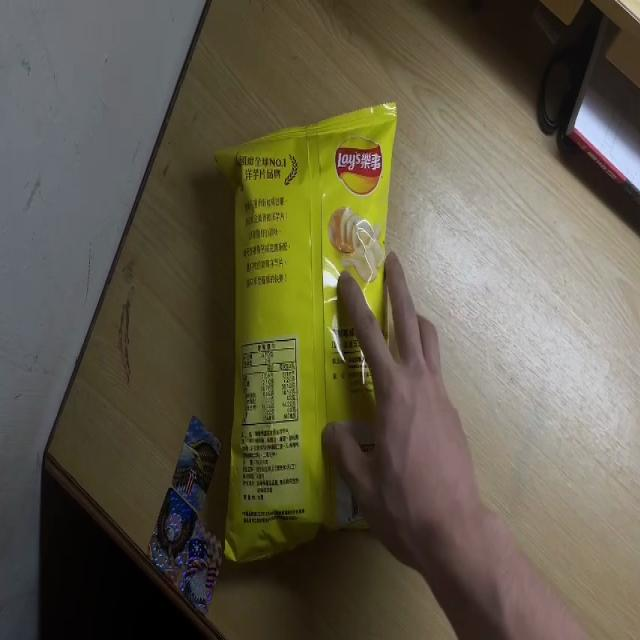Lay-s-original: (210, 100, 403, 567)
